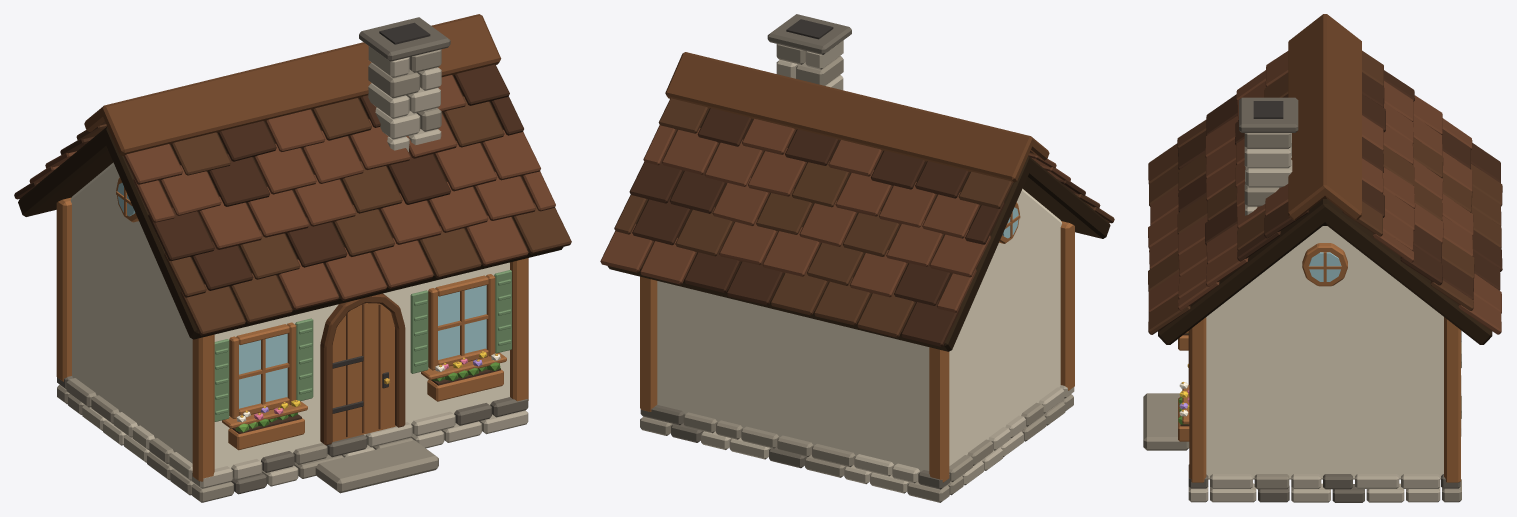
File: Mossvale_Cottage.fbx
3 renders of one model, left to right at view 1: azimuth 30°, elevation 25°; view 2: azimuth 150°, elevation 25°; view 3: azimuth 270°, elevation 25°, orthographic. The views are drawn at different scales.
Visible parts, largest first — view 1: SM_Cottage_Roof, SM_Cottage_Walls, SM_Cottage_Windows, SM_Cottage_Foundation, SM_Cottage_Door, SM_Cottage_Chimney, SM_Cottage_FlowerBoxes; view 2: SM_Cottage_Roof, SM_Cottage_Walls, SM_Cottage_Foundation, SM_Cottage_Chimney; view 3: SM_Cottage_Roof, SM_Cottage_Walls, SM_Cottage_Foundation, SM_Cottage_Chimney, SM_Cottage_Windows, SM_Cottage_FlowerBoxes.
Boxes of the visible parts, <box> form: SM_Cottage_Roof: <box>14,14,571,339</box>; SM_Cottage_Walls: <box>56,162,528,481</box>; SM_Cottage_Windows: <box>116,177,511,428</box>; SM_Cottage_Foundation: <box>57,376,528,502</box>; SM_Cottage_Door: <box>320,293,405,445</box>; SM_Cottage_Chimney: <box>359,17,450,151</box>; SM_Cottage_FlowerBoxes: <box>228,351,503,450</box>; SM_Cottage_Roof: <box>600,52,1114,351</box>; SM_Cottage_Walls: <box>640,188,1074,482</box>; SM_Cottage_Foundation: <box>640,385,1074,502</box>; SM_Cottage_Chimney: <box>767,14,851,90</box>; SM_Cottage_Roof: <box>1148,14,1502,344</box>; SM_Cottage_Walls: <box>1189,226,1460,482</box>; SM_Cottage_Foundation: <box>1143,330,1461,502</box>; SM_Cottage_Chimney: <box>1239,97,1298,215</box>; SM_Cottage_Windows: <box>1182,243,1347,424</box>; SM_Cottage_FlowerBoxes: <box>1178,333,1189,441</box>.
Bounding box in the file's own units: 5.8 × 5.57 × 5.08.
